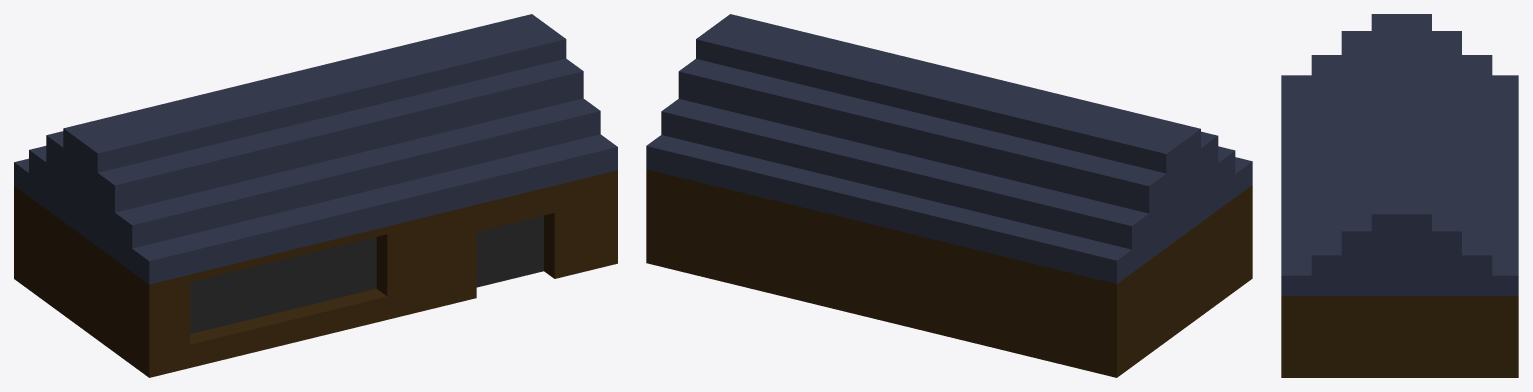
Rendered from Control_Building.obj.
3 views of the same model, side by side, from view 1: azimuth 30°, elevation 25°; view 2: azimuth 150°, elevation 25°; view 3: azimuth 270°, elevation 25° (orthographic). The views are drawn at different scales.
Size of the model in its own units: 126 by 48 by 63.
